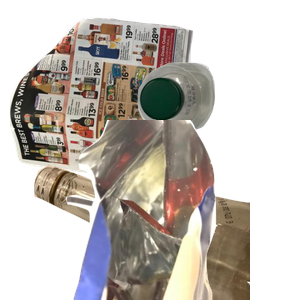glass: (31, 120, 271, 300)
paper: (10, 15, 196, 195)
plastic: (135, 60, 300, 184)
trash: (63, 120, 300, 300)
